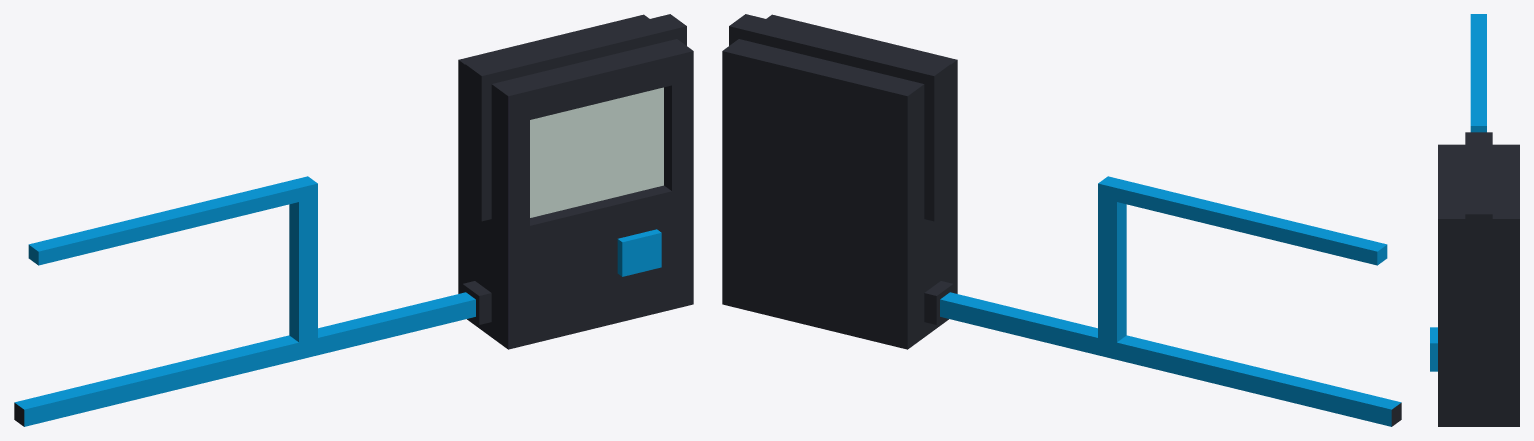
Rendered from Building_GarageDoor_Opener_BlueL.fbx.
3 renders of one model, left to right at view 1: azimuth 30°, elevation 25°; view 2: azimuth 150°, elevation 25°; view 3: azimuth 270°, elevation 25°, orthographic. The views are drawn at different scales.
Parts seen in each view (by area): view 1: GarageDoor_Opener_BlueL; view 2: GarageDoor_Opener_BlueL; view 3: GarageDoor_Opener_BlueL.
Boxes of the visible parts, x1,y1,x2,y2 form: GarageDoor_Opener_BlueL: [14, 14, 693, 426]; GarageDoor_Opener_BlueL: [722, 14, 1401, 426]; GarageDoor_Opener_BlueL: [1430, 14, 1519, 426].
Size of the model in its own units: 75.36 by 28.8 by 10.81.
